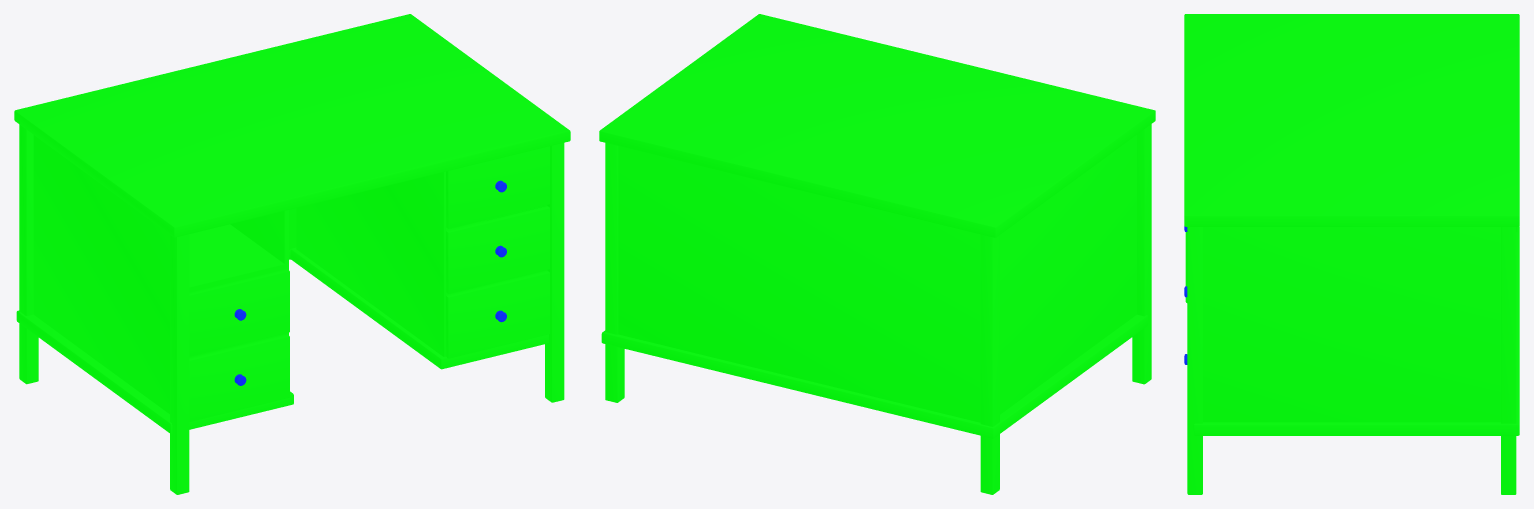
The model's file is Schreibtisch.fbx.
The picture shows the model from 3 angles, left to right: view 1: azimuth 30°, elevation 25°; view 2: azimuth 150°, elevation 25°; view 3: azimuth 270°, elevation 25°; orthographic projection. The views are drawn at different scales.
Parts seen in each view (by area): view 1: Schreibtisch_Export; view 2: Schreibtisch_Export; view 3: Schreibtisch_Export.
Part boxes in pixels (box(x1,y1,x2,y2)): Schreibtisch_Export: box(14, 14, 570, 494); Schreibtisch_Export: box(599, 14, 1155, 494); Schreibtisch_Export: box(1184, 14, 1519, 494).
Size of the model in its own units: 155 by 101 by 108.
